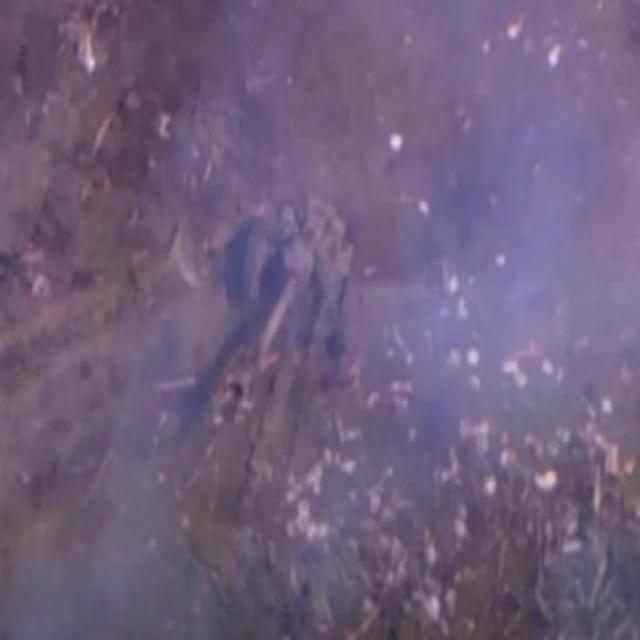ART: (232, 189, 362, 389)
